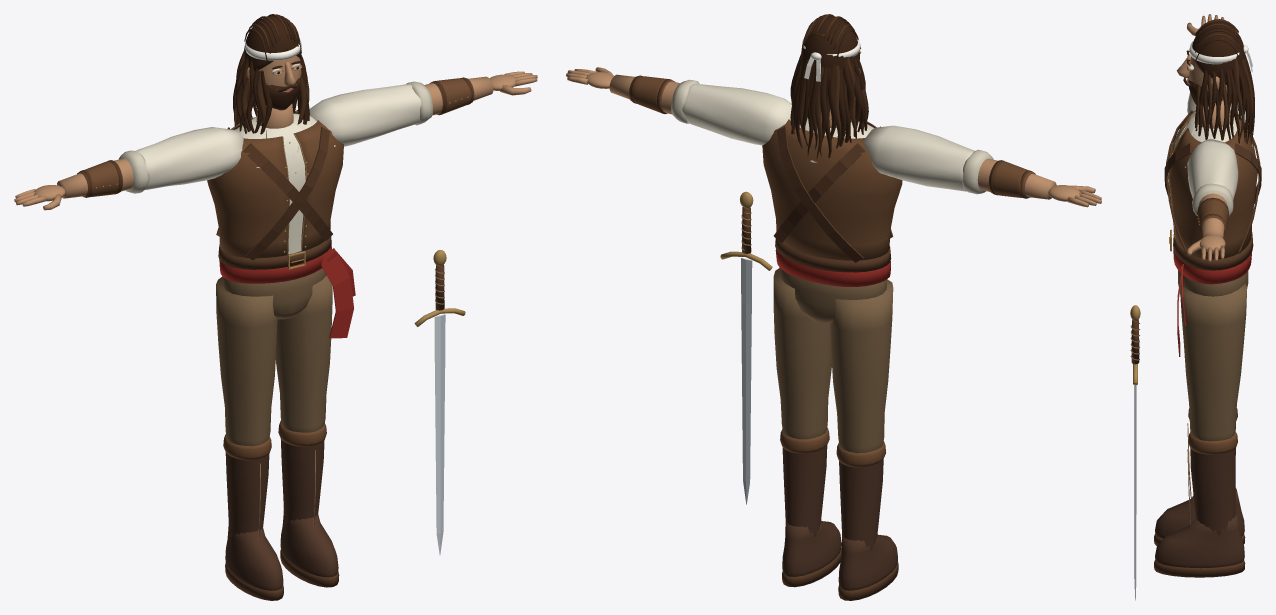
The model's file is guerrier.glb.
The picture shows the model from 3 angles, left to right: view 1: azimuth 30°, elevation 25°; view 2: azimuth 150°, elevation 25°; view 3: azimuth 270°, elevation 25°; orthographic projection. The views are drawn at different scales.
Parts seen in each view (by area): view 1: Guerrier_Corps, Epee_Acier; view 2: Guerrier_Corps, Epee_Acier; view 3: Guerrier_Corps, Epee_Acier.
Part boxes in pixels (x1,y1,x2,y2): Guerrier_Corps: [14, 14, 537, 600]; Epee_Acier: [414, 250, 465, 555]; Guerrier_Corps: [566, 14, 1101, 600]; Epee_Acier: [720, 191, 772, 504]; Guerrier_Corps: [1154, 14, 1261, 577]; Epee_Acier: [1130, 305, 1140, 600].
Bounding box in the file's own units: 1.79 × 1.82 × 0.406.
